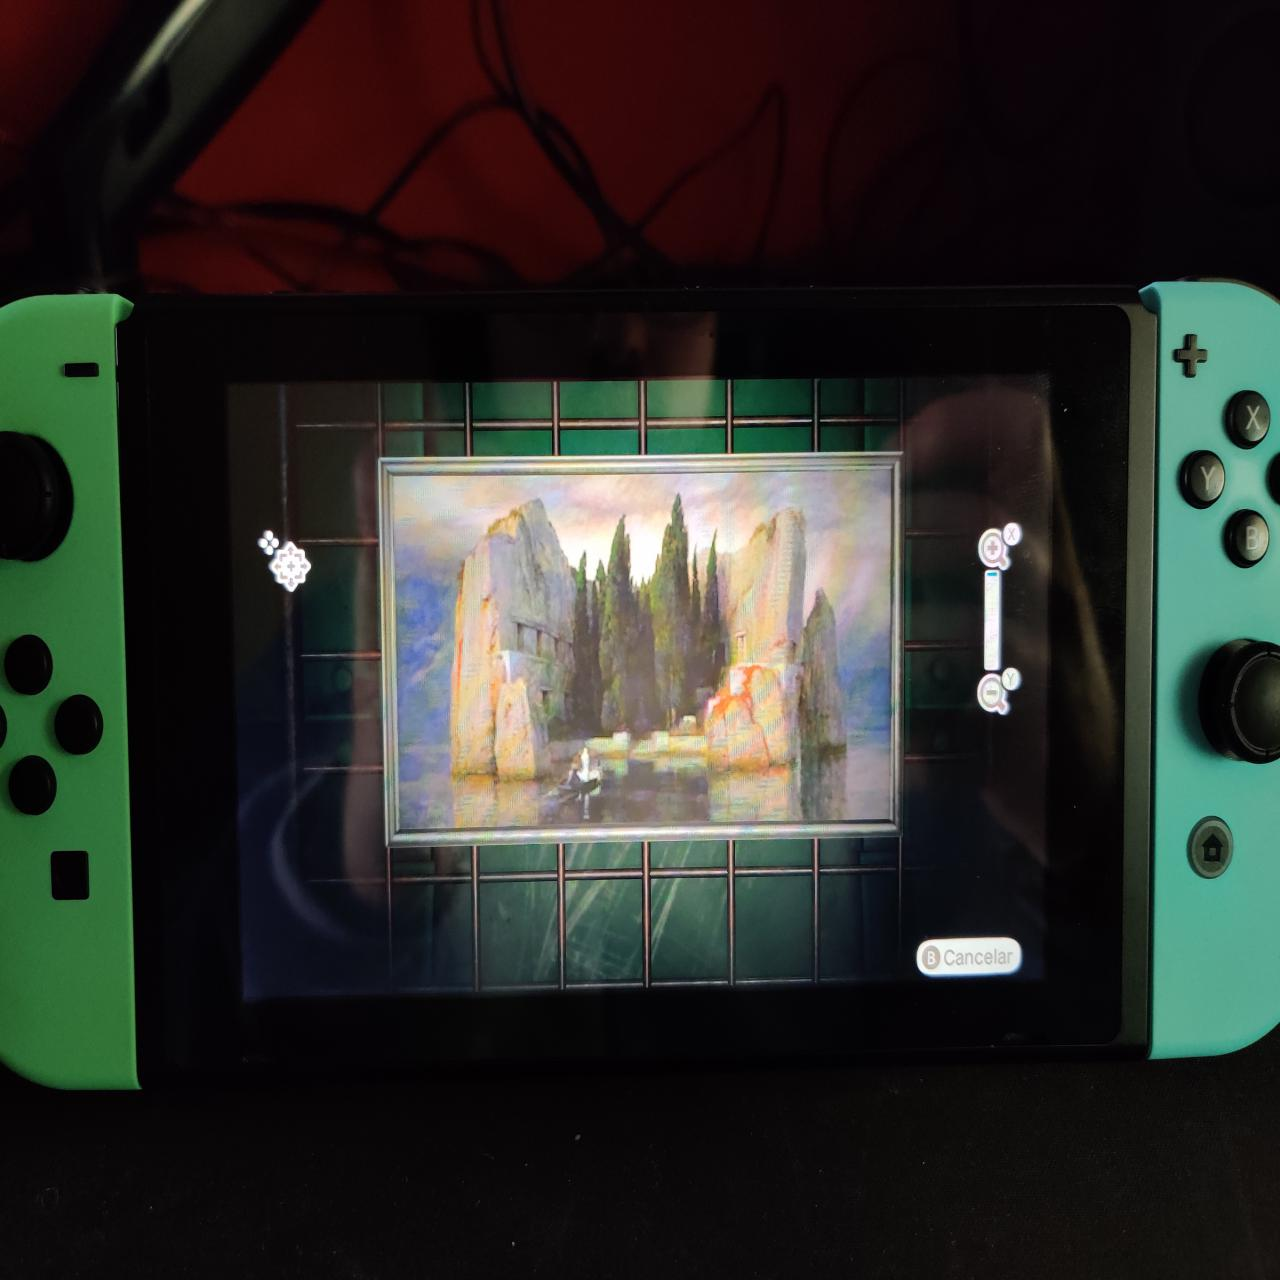IsleOfDead: (393, 478, 896, 830)
